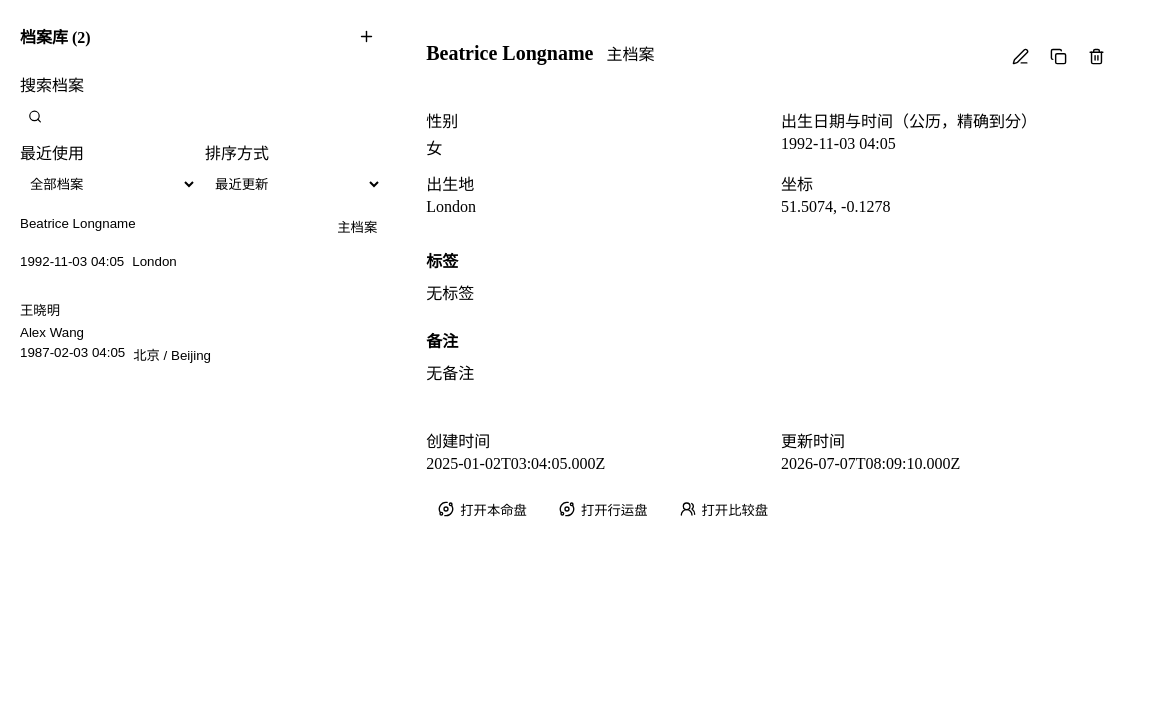
Scenario: selects a persisted valid primary initially and after refetch while retaining valid selection
Expected: the heading "Beatrice Longname" is shown, [426, 42, 593, 64]
Click the button with aria-label "选择档案：王晓明": point(40, 310) [8, 292, 394, 376]
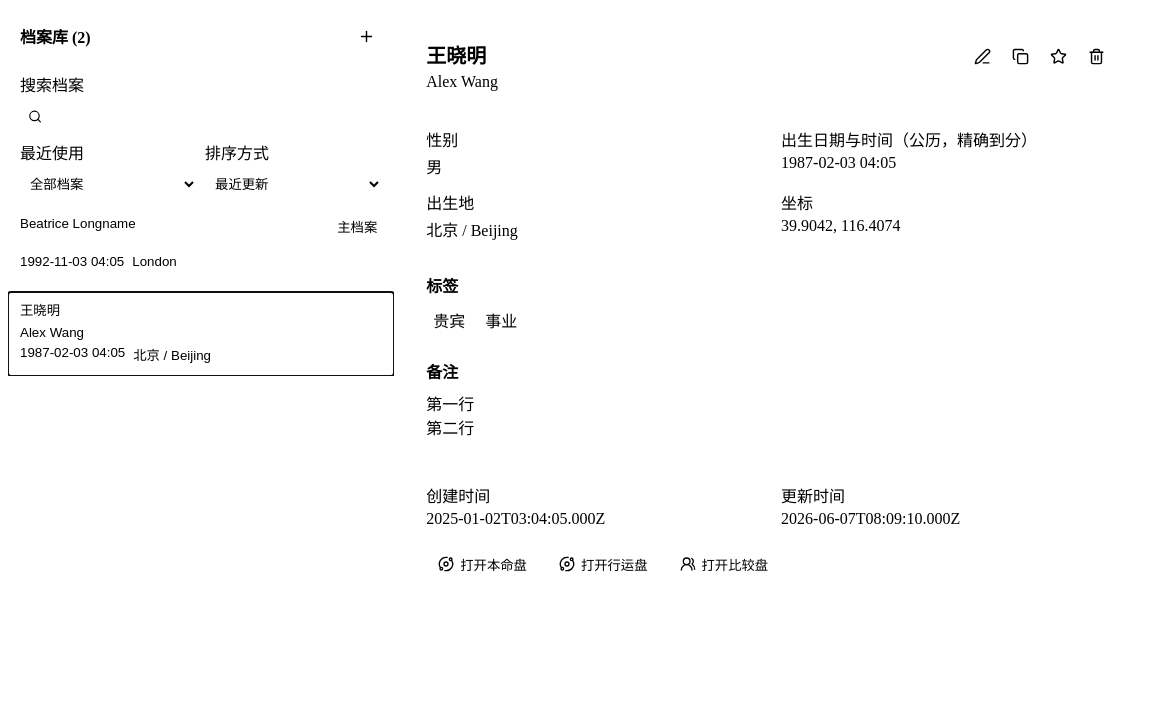
Now the heading "王晓明" is shown, box [426, 40, 486, 69]
Click the button with aria-label "选择档案：Beatrice Longname，主档案": point(78, 224) [8, 208, 394, 292]
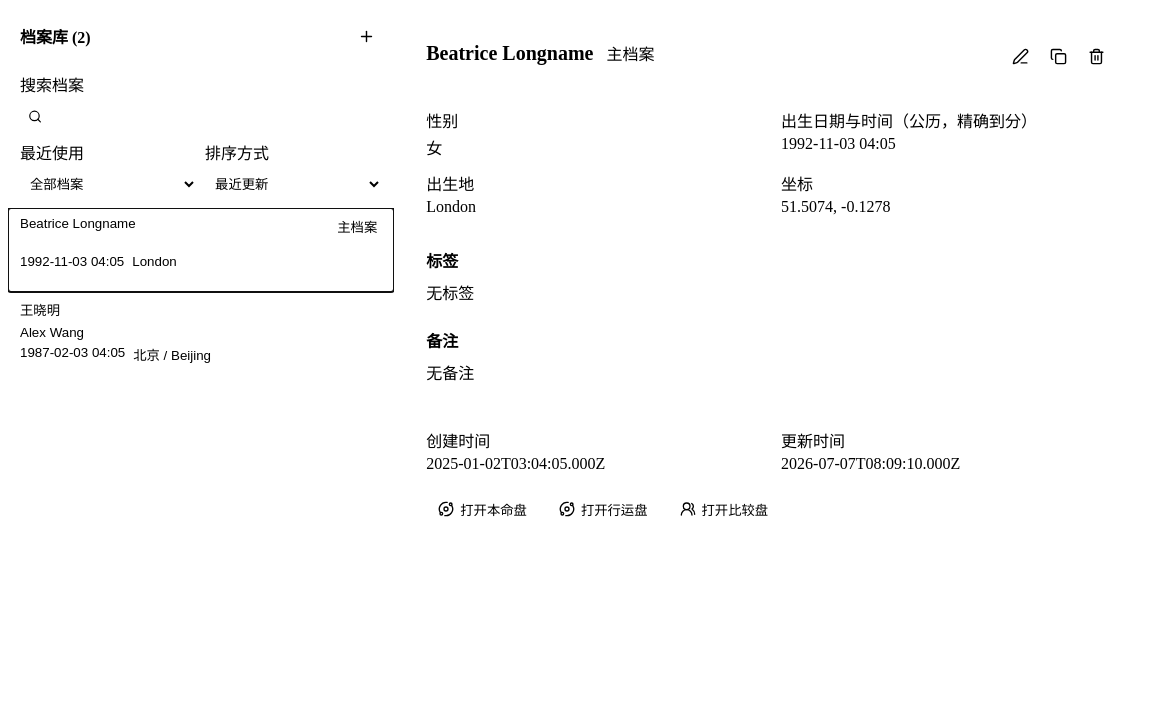
Now the heading "Beatrice Longname" is shown, box [426, 42, 593, 64]
